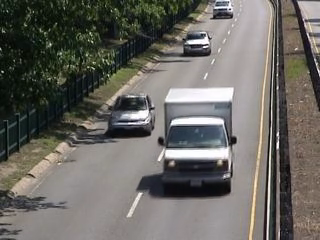car: (107, 96, 159, 138), (180, 30, 214, 57), (211, 1, 237, 21)
truck: (161, 87, 237, 196)
